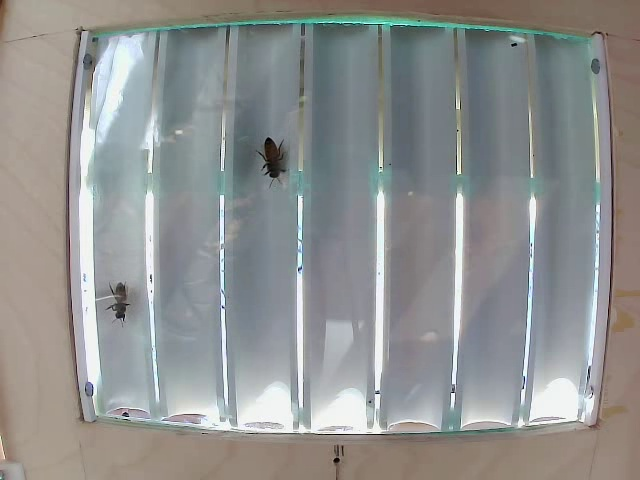bee: (110, 281, 151, 325), (259, 143, 301, 184)
